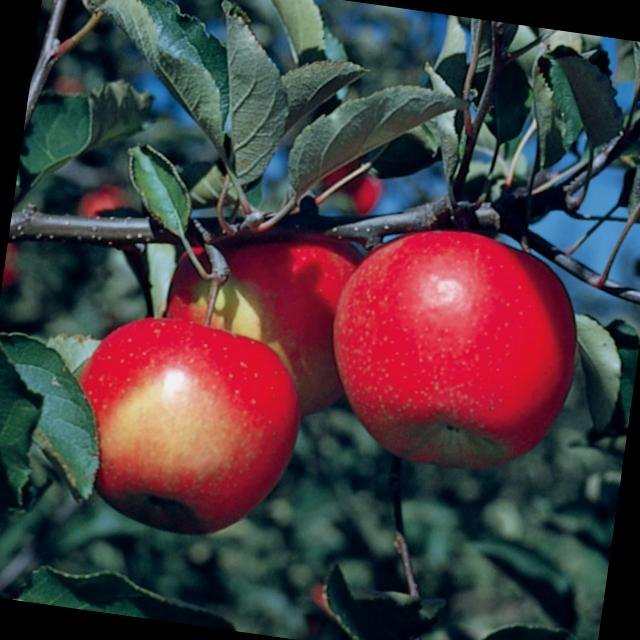apple: (312, 210, 588, 488), (53, 307, 311, 549), (140, 208, 392, 442)
